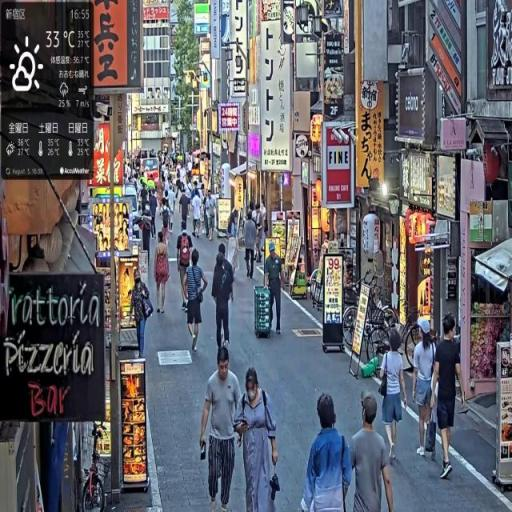person: (201, 349, 244, 512), (233, 366, 280, 512), (432, 315, 471, 480), (301, 392, 354, 510), (350, 391, 396, 512), (378, 331, 407, 467), (413, 324, 438, 456), (212, 243, 237, 364), (184, 249, 208, 356), (131, 274, 155, 360), (264, 242, 285, 335), (154, 231, 171, 316), (176, 229, 193, 309), (245, 212, 260, 283), (192, 188, 204, 240)
